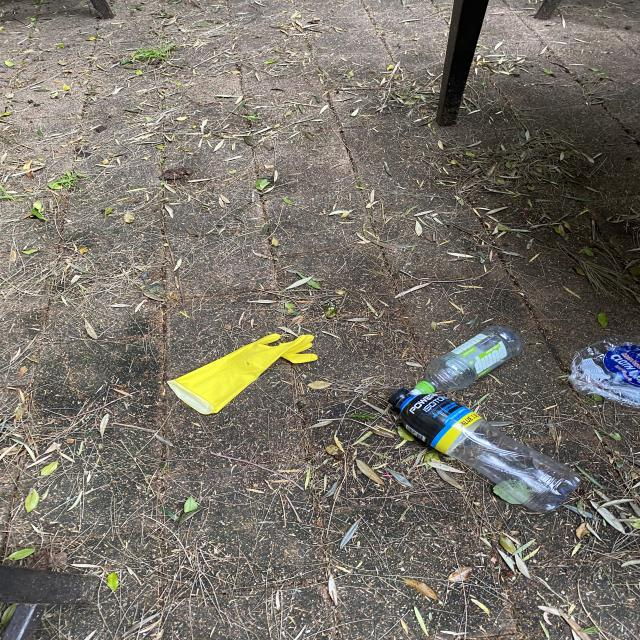bottle: (387, 387, 582, 514), (410, 325, 524, 396)
glove: (167, 333, 318, 414)
wrappers: (568, 336, 640, 408)
